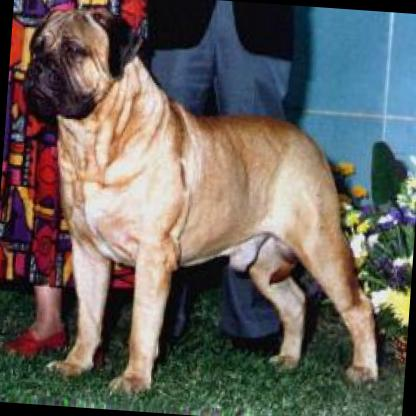bull_mastiff: (0, 0, 401, 408)
